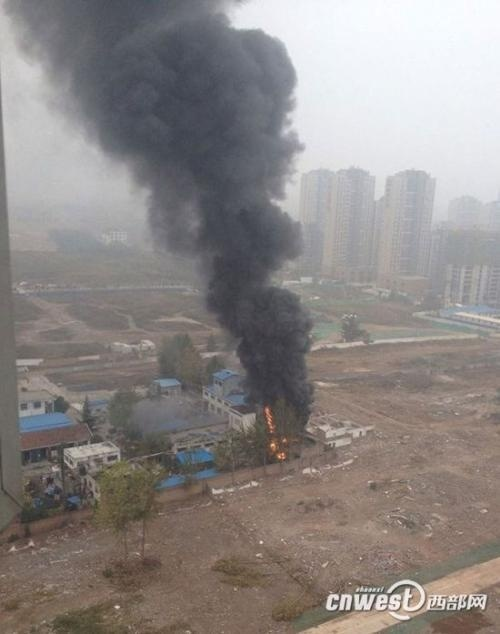fire: (261, 406, 288, 461)
